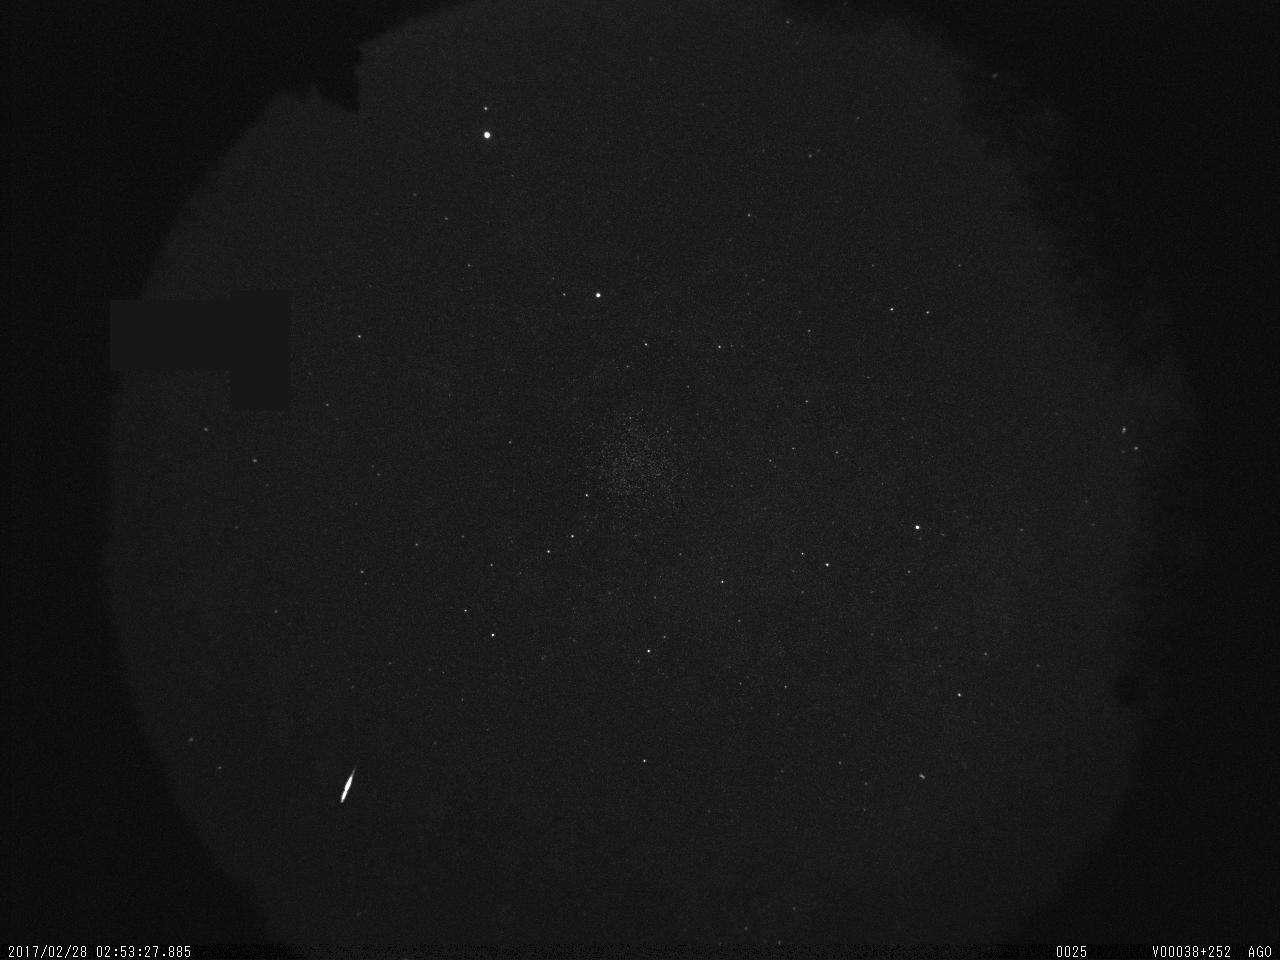Meteor: (337, 765, 357, 803)
